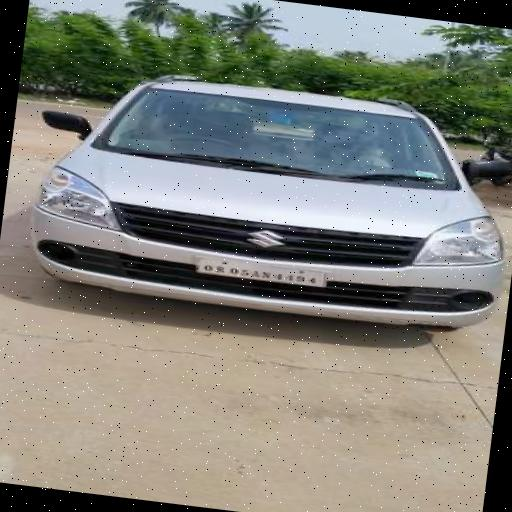license_plate`: (193, 254, 324, 288)
